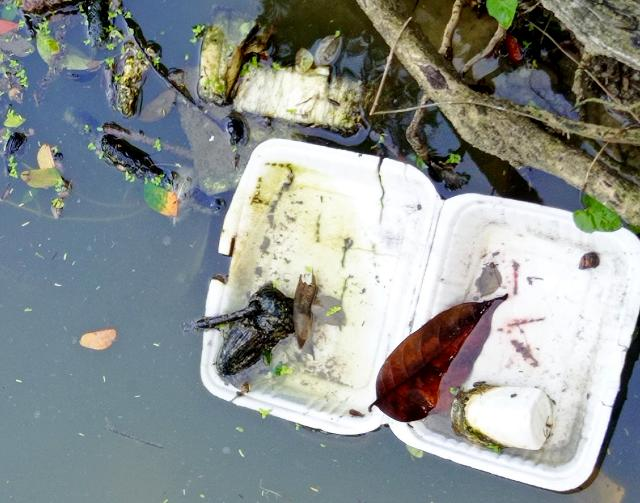cocksheet: (191, 134, 640, 503)
